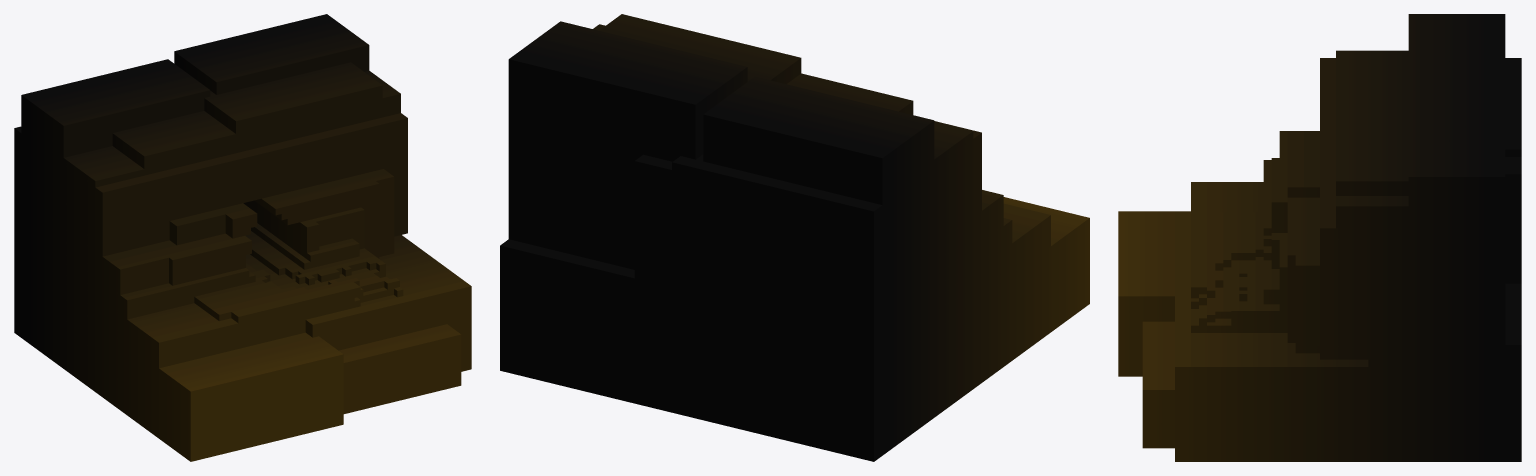
File: DepthofDeath.fbx
3 renders of one model, left to right at view 1: azimuth 30°, elevation 25°; view 2: azimuth 150°, elevation 25°; view 3: azimuth 270°, elevation 25°, orthographic. The views are drawn at different scales.
Visible parts, largest first — view 1: Union; view 2: Union; view 3: Union.
Part boxes in pixels (box(x1,y1,x2,y2)): Union: box(14, 14, 471, 461); Union: box(500, 14, 1089, 461); Union: box(1118, 14, 1521, 461).
Size of the model in its own units: 50 by 39 by 50.
